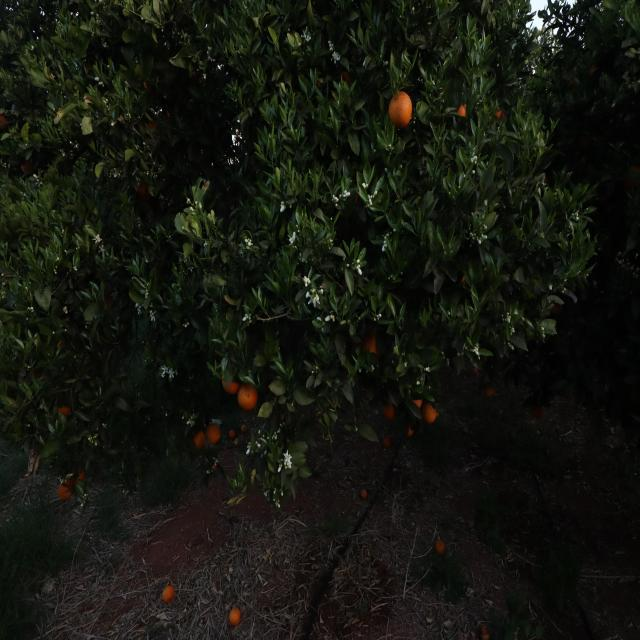Bunga: (308, 294, 320, 308), (283, 449, 292, 466), (332, 51, 340, 64), (92, 234, 100, 243), (168, 368, 174, 379), (162, 365, 168, 375), (207, 52, 212, 62), (324, 315, 331, 322), (98, 245, 105, 252), (318, 288, 324, 295), (280, 205, 286, 212), (332, 195, 338, 202), (150, 315, 156, 322), (303, 276, 308, 284), (330, 314, 335, 322), (292, 232, 296, 242), (301, 30, 306, 38), (137, 308, 142, 316), (316, 316, 322, 322), (328, 41, 334, 47), (247, 442, 252, 449), (306, 290, 310, 298), (358, 268, 362, 276), (307, 32, 311, 40), (278, 464, 282, 472), (242, 316, 247, 322), (356, 264, 361, 270), (373, 190, 378, 196), (186, 198, 191, 204), (247, 238, 252, 243), (284, 461, 289, 466), (33, 174, 38, 179), (306, 278, 310, 284), (248, 314, 252, 320), (370, 194, 374, 200), (246, 448, 250, 454), (274, 434, 278, 440), (280, 490, 284, 496), (58, 476, 62, 482), (60, 478, 64, 484), (30, 307, 34, 313), (135, 302, 139, 308), (150, 310, 154, 316), (94, 77, 100, 81), (190, 206, 194, 212), (244, 314, 248, 319), (289, 237, 293, 242), (290, 240, 294, 245), (288, 464, 292, 469), (256, 443, 260, 448), (93, 434, 98, 438), (63, 306, 67, 311), (150, 303, 154, 308), (111, 122, 116, 126), (356, 258, 359, 264), (145, 292, 148, 298), (98, 82, 104, 85), (203, 73, 206, 79), (244, 238, 248, 242), (280, 202, 284, 206), (343, 190, 347, 194), (346, 192, 350, 196), (362, 184, 366, 188), (368, 198, 372, 202), (284, 466, 288, 470), (66, 474, 70, 478), (102, 424, 106, 428), (73, 266, 77, 270), (114, 174, 118, 178), (103, 100, 107, 104), (208, 46, 212, 50), (88, 437, 91, 442), (54, 269, 57, 274), (62, 152, 65, 157), (199, 203, 202, 208), (305, 283, 308, 287), (249, 320, 252, 324), (248, 242, 251, 246), (300, 252, 302, 258), (346, 264, 349, 268), (330, 239, 333, 243), (289, 204, 292, 208), (335, 204, 338, 208), (342, 195, 346, 198), (339, 194, 342, 198), (368, 194, 370, 200), (330, 46, 333, 50), (95, 440, 97, 446), (65, 310, 68, 314), (61, 230, 64, 234), (36, 179, 40, 182), (31, 46, 34, 50), (104, 42, 106, 48), (90, 12, 94, 15), (195, 200, 198, 204), (187, 421, 190, 425), (207, 470, 210, 474), (366, 183, 368, 188), (274, 488, 276, 493), (294, 246, 297, 249), (105, 99, 108, 102), (370, 202, 372, 206), (272, 435, 274, 439), (276, 502, 278, 506), (278, 504, 280, 508), (70, 474, 74, 476), (28, 306, 30, 310), (154, 310, 156, 314), (56, 258, 60, 260), (118, 172, 120, 176), (129, 114, 131, 118), (185, 324, 187, 328), (187, 322, 189, 326), (182, 416, 184, 420), (274, 432, 276, 435), (84, 494, 86, 497), (146, 289, 148, 292), (103, 84, 104, 87)
Jeruk Sudah Matang: (388, 91, 412, 128), (237, 386, 258, 409), (222, 376, 239, 394), (364, 334, 378, 355), (206, 423, 220, 442), (229, 607, 241, 626), (425, 406, 437, 424), (59, 482, 72, 498), (163, 584, 174, 602), (194, 432, 205, 449), (76, 468, 85, 486), (436, 540, 446, 554), (456, 104, 466, 117), (384, 404, 394, 417), (58, 406, 71, 416), (64, 478, 76, 486), (414, 398, 422, 408), (360, 490, 368, 500), (383, 438, 390, 448), (496, 111, 504, 119), (406, 428, 414, 436)
